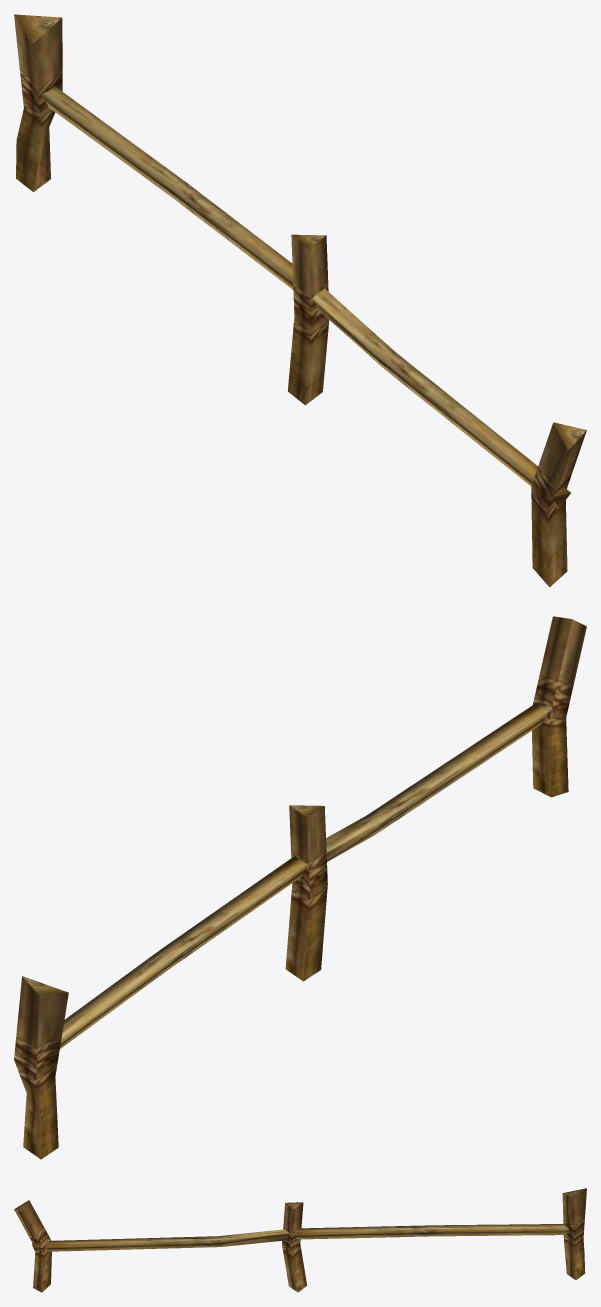
The model's file is Dingqingchuan_wujian_04_1.FBX.
3 renders of one model, top to bottom at view 1: azimuth 30°, elevation 25°; view 2: azimuth 150°, elevation 25°; view 3: azimuth 270°, elevation 25°, orthographic. The views are drawn at different scales.
Parts seen in each view (by area): view 1: Box16af; view 2: Box16af; view 3: Box16af.
Boxes of the visible parts, <box> form: Box16af: <box>14,14,586,587</box>; Box16af: <box>14,616,586,1159</box>; Box16af: <box>14,1188,586,1292</box>.
Size of the model in its own units: 5.49 by 23.06 by 122.
